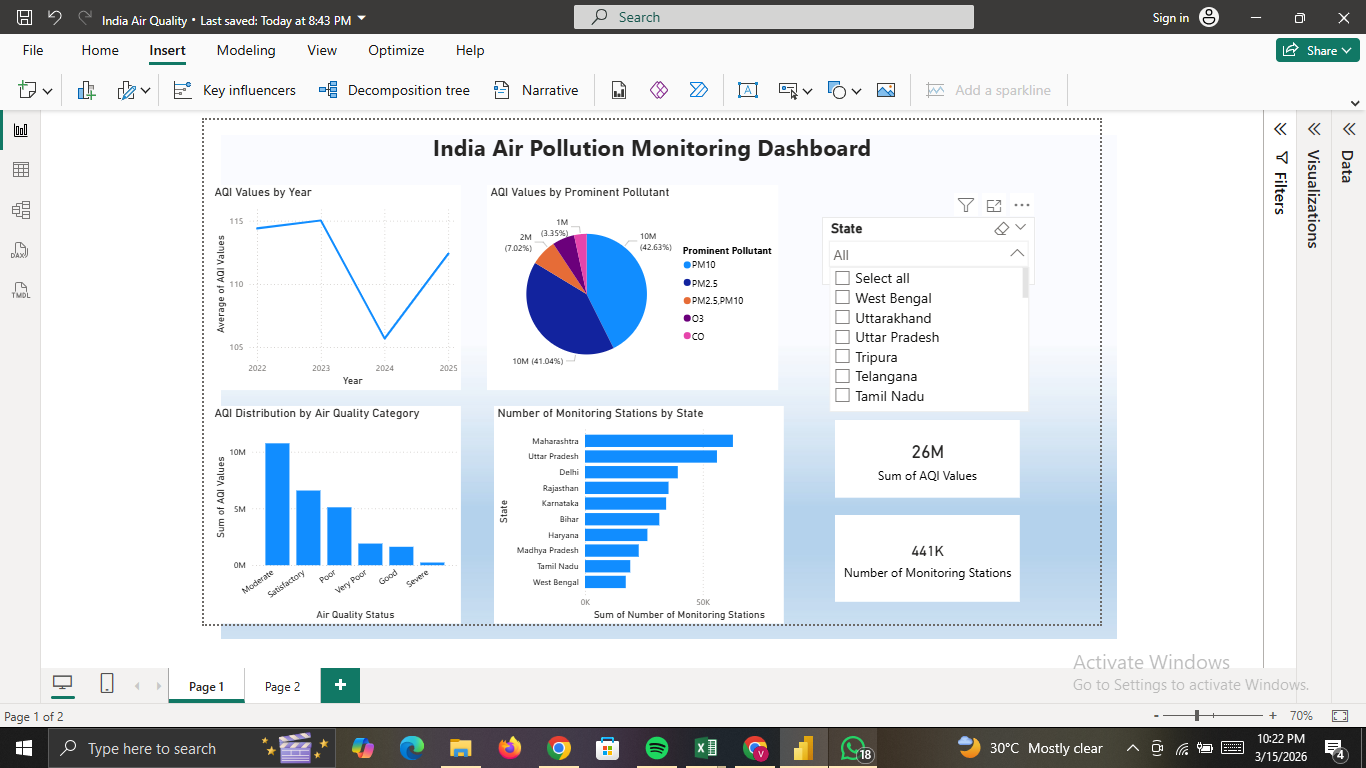

The page's visual inventory and layout, read from the dashboard file:
{"tool":"powerbi","page":{"name":"Page 1","canvas":[1280,720],"ordinal":0},"visuals":[{"type":"lineChart","title":"AQI Values by Year","fields":{"Category":["Air Quality final.Date.Variation.Date Hierarchy.Year","Air Quality final.Date.Variation.Date Hierarchy.Quarter","Air Quality final.Date.Variation.Date Hierarchy.Month","Air Quality final.Date.Variation.Date Hierarchy.Day"],"Y":["Avg(Air Quality final.AQI Values)"]},"box":[10,92.9,357.1,292.9],"z":0},{"type":"lineClusteredColumnComboChart","title":"AQI Distribution by Air Quality Category","fields":{"Category":["Air Quality final.Air Quality Status"],"Y":["Sum(Air Quality final.AQI Values)"]},"box":[10,408.6,357.1,311.4],"z":1000},{"type":"pieChart","title":"AQI Values by Prominent Pollutant","fields":{"Category":["Air Quality final.Prominent Pollutant"],"Y":["Sum(Air Quality final.AQI Values)"]},"box":[404.3,92.9,415.7,292.9],"z":2000},{"type":"clusteredBarChart","title":"Number of Monitoring Stations by State","fields":{"Category":["Air Quality final.State"],"Y":["Sum(Air Quality final.Number of Monitoring Stations)"]},"box":[414.3,408.6,414.3,311.4],"z":3000},{"type":"textbox","box":[0,11.3,1280.6,69.4],"z":4000},{"type":"card","fields":{"Values":["Sum(Air Quality final.AQI Values)"]},"box":[901.4,428.6,264.3,111.4],"z":5000},{"type":"slicer","fields":{"Values":["Air Quality final.State"]},"box":[882.3,138.7,304.8,96.8],"z":6000},{"type":"card","fields":{"Values":["Sum(Air Quality final.Number of Monitoring Stations)"]},"box":[901.4,564.3,264.3,124.3],"z":7000}]}

Visuals, with their boxes on the page's 1280x720 design canvas (x1, y1, x2, y2). These are canvas units, not pixel positions in the 1366x768 screenshot, which may show the page scaled, cropped or inside an application window:
"AQI Values by Year" lineChart: box=[10, 93, 367, 386]
"AQI Distribution by Air Quality Category" lineClusteredColumnComboChart: box=[10, 409, 367, 720]
"AQI Values by Prominent Pollutant" pieChart: box=[404, 93, 820, 386]
"Number of Monitoring Stations by State" clusteredBarChart: box=[414, 409, 829, 720]
textbox: box=[0, 11, 1281, 81]
card - Sum(Air Quality final.AQI Values): box=[901, 429, 1166, 540]
slicer - Air Quality final.State: box=[882, 139, 1187, 236]
card - Sum(Air Quality final.Number of Monitoring Stations): box=[901, 564, 1166, 689]
